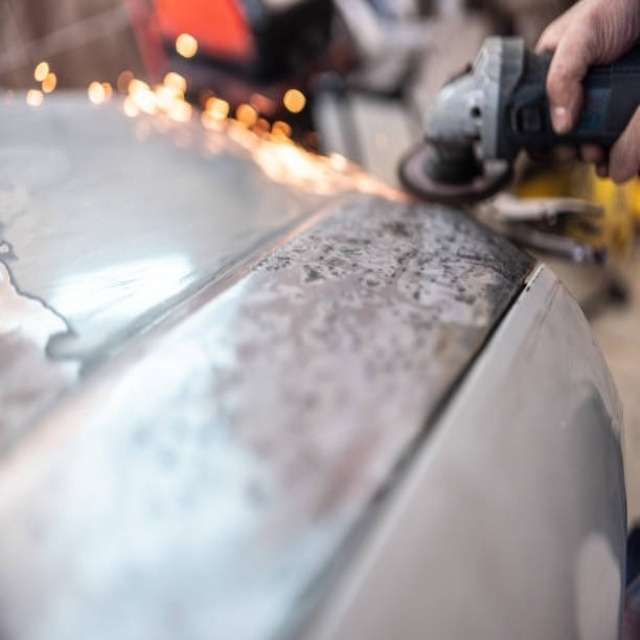Sin_guantes: (534, 0, 638, 182)
